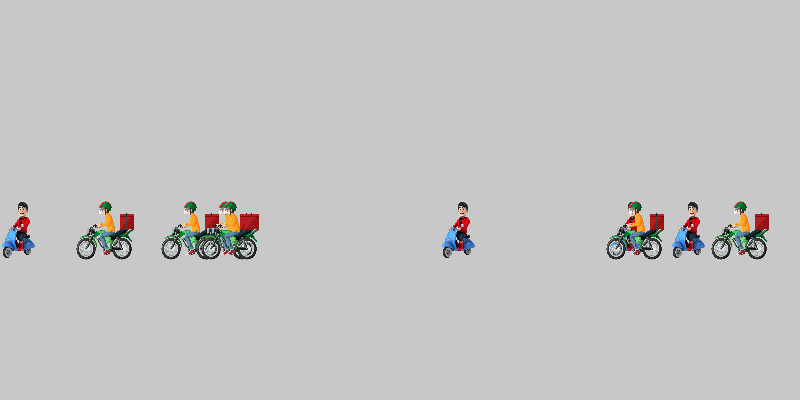helmet: (75, 200, 135, 260), (160, 200, 220, 260), (195, 200, 255, 260), (200, 200, 260, 260), (605, 200, 665, 260), (710, 200, 770, 260)
no_helmet: (430, 200, 490, 260), (600, 200, 660, 260), (660, 200, 720, 260), (0, 200, 50, 260)
